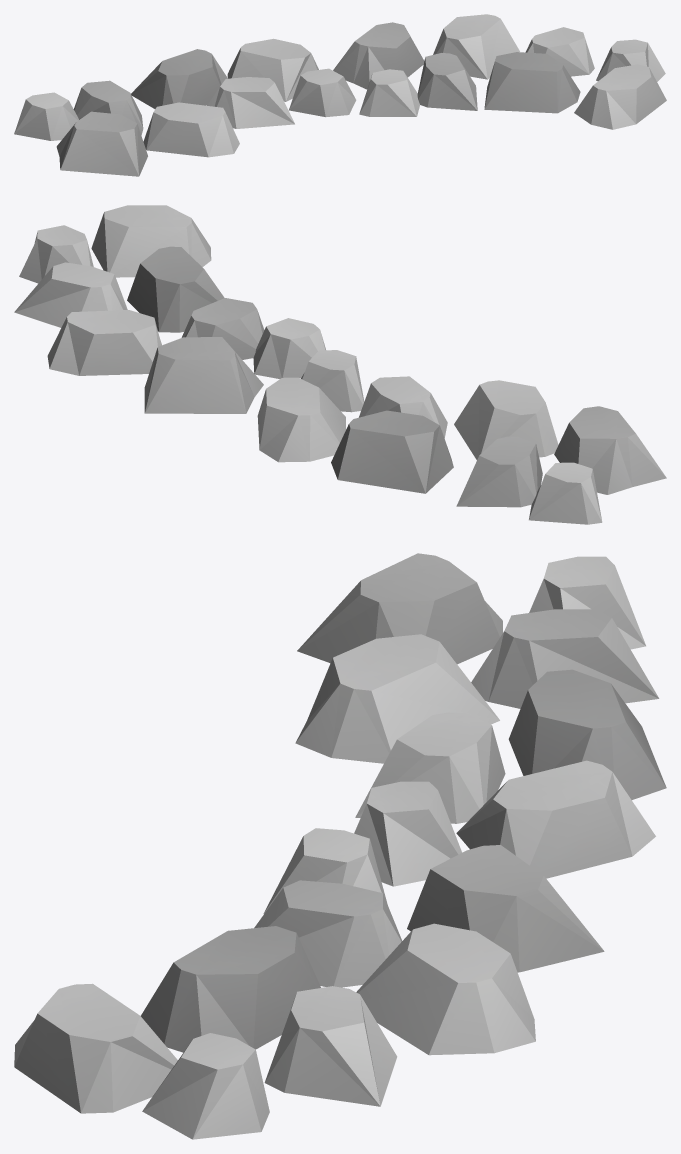
The model's file is stonepath_curve.glb.
The picture shows the model from 3 angles, top to bottom: view 1: azimuth 30°, elevation 25°; view 2: azimuth 150°, elevation 25°; view 3: azimuth 270°, elevation 25°; orthographic projection. The views are drawn at different scales.
Visible parts, largest first — view 1: StonePath_Curve_mesh1; view 2: StonePath_Curve_mesh1; view 3: StonePath_Curve_mesh1.
Part boxes in pixels (x1,y1,x2,y2): StonePath_Curve_mesh1: [14, 14, 666, 176]; StonePath_Curve_mesh1: [14, 205, 666, 524]; StonePath_Curve_mesh1: [14, 553, 666, 1139].
Size of the model in its own units: 8.03 by 0.4673 by 4.1.
1 material, 1 textured.
